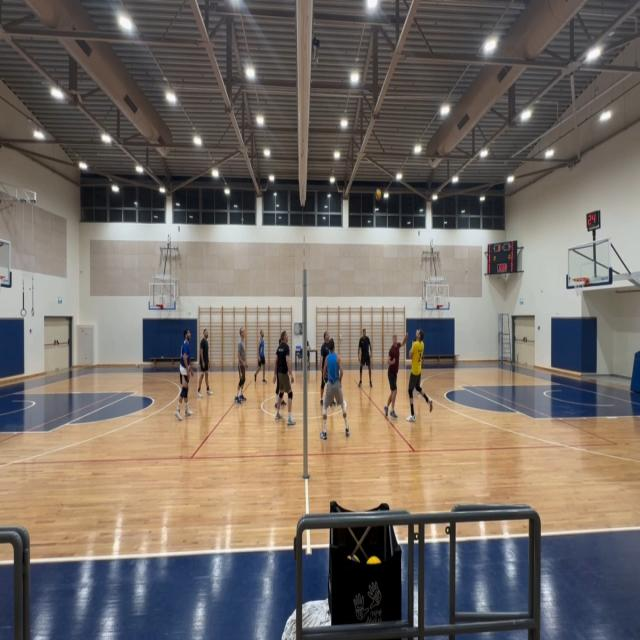volleyball: (376, 188, 382, 201)
